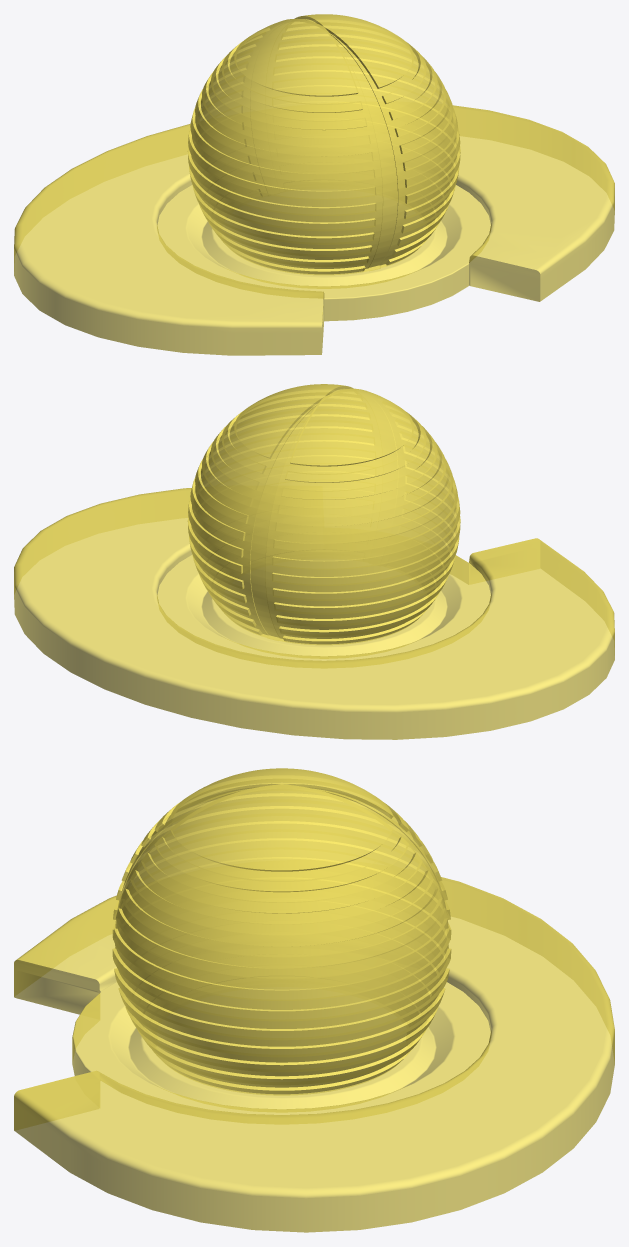
The picture shows the model from 3 angles, top to bottom: view 1: azimuth 30°, elevation 25°; view 2: azimuth 150°, elevation 25°; view 3: azimuth 270°, elevation 25°; orthographic projection. The views are drawn at different scales.
Visible parts, largest first — view 1: 圆柱, 球体; view 2: 圆柱, 球体; view 3: 圆柱, 球体.
Part boxes in pixels (bbox=[...]): 圆柱: bbox=[14, 105, 614, 355]; 球体: bbox=[187, 14, 460, 274]; 圆柱: bbox=[14, 488, 614, 739]; 球体: bbox=[187, 384, 460, 644]; 圆柱: bbox=[14, 877, 614, 1232]; 球体: bbox=[112, 768, 451, 1094].
Size of the model in its own units: 632 by 246 by 478.
